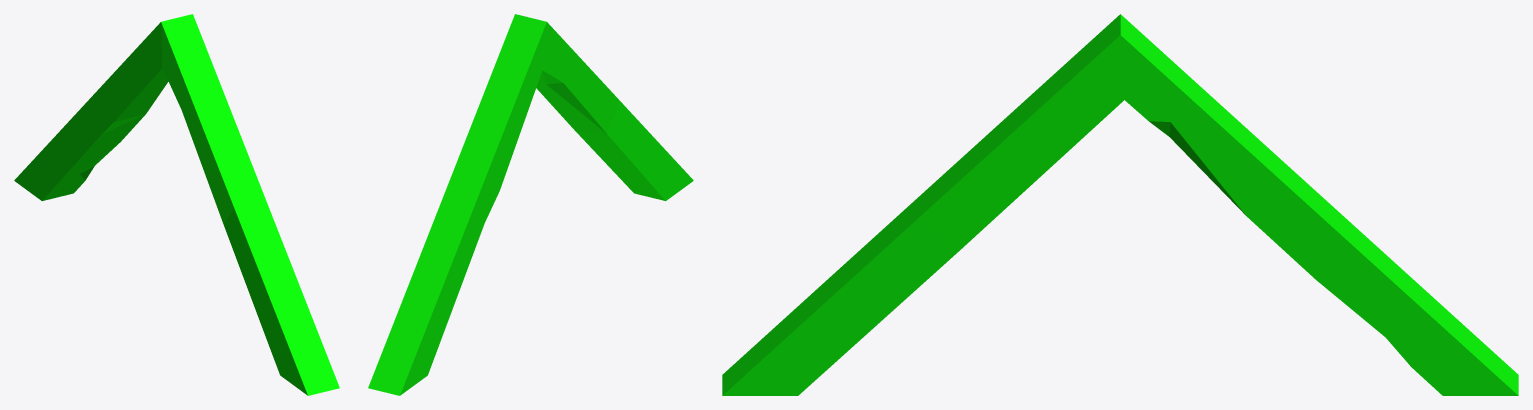
The model's file is SM_Roof_Regular_Truss_Wood_Center.fbx.
3 renders of one model, left to right at view 1: azimuth 30°, elevation 25°; view 2: azimuth 150°, elevation 25°; view 3: azimuth 270°, elevation 25°, orthographic. The views are drawn at different scales.
Parts seen in each view (by area): view 1: roof-regular-truss-wood-center; view 2: roof-regular-truss-wood-center; view 3: roof-regular-truss-wood-center.
Boxes of the visible parts, <box> form: roof-regular-truss-wood-center: <box>14,14,339,395</box>; roof-regular-truss-wood-center: <box>368,14,693,395</box>; roof-regular-truss-wood-center: <box>722,14,1518,395</box>.
Bounding box in the file's own units: 0.2564 × 2 × 4.
